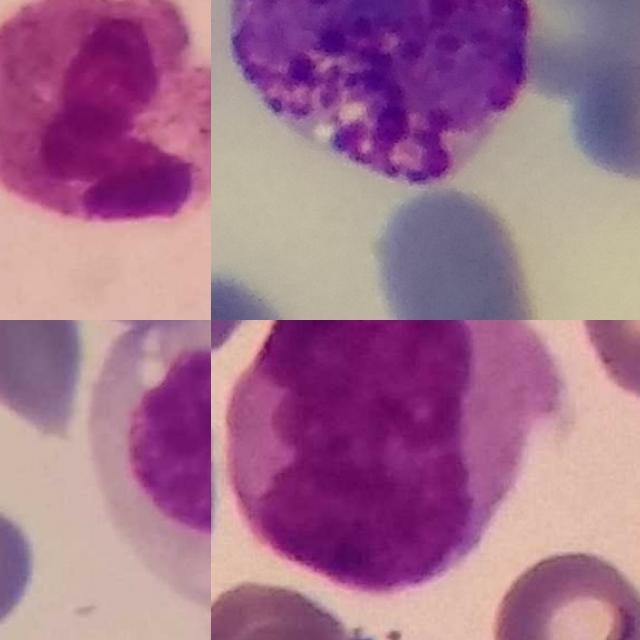Basophil: (231, 0, 531, 184)
Monocyte: (224, 320, 554, 590), (91, 320, 211, 632)
Neutrophil: (0, 0, 211, 228)
